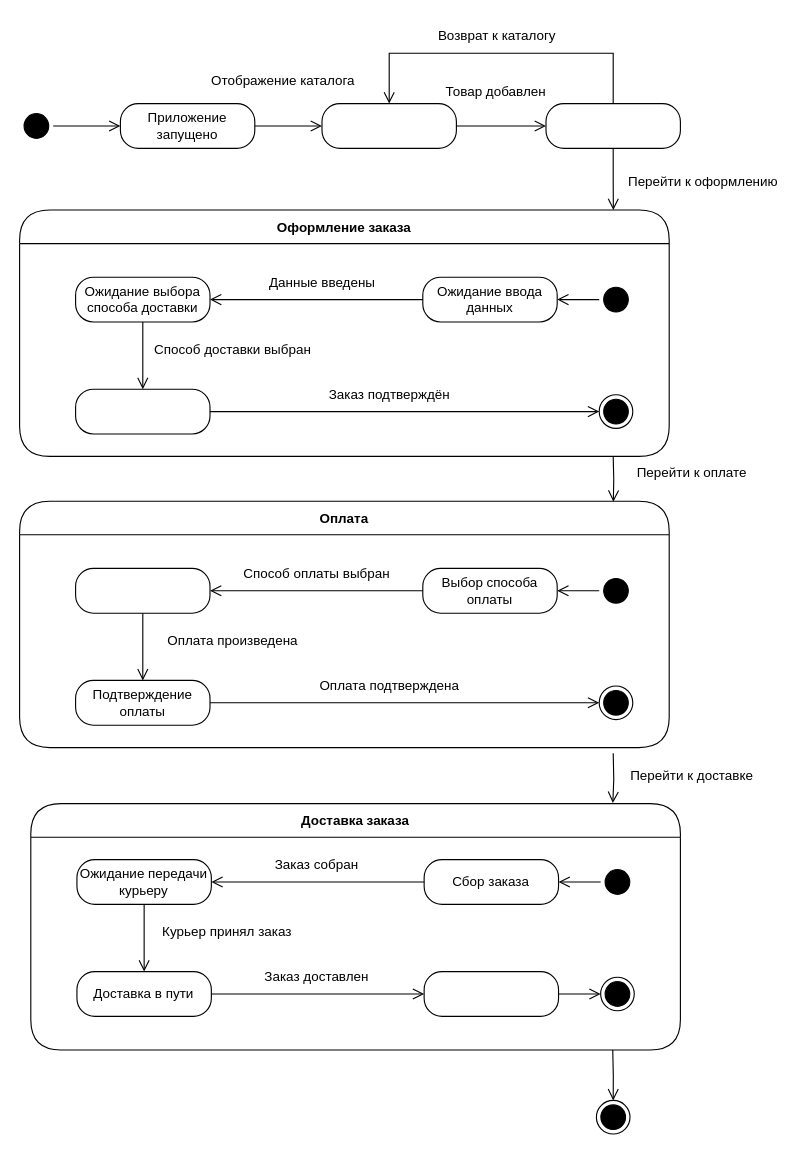
Image size: 812x1154. Some labels were removed from this diagram. The shapes that lost their labels are listed below. From the top down, each one's box as (x1, y1, x2, y2) in pixels, then its label:
(321, 102, 456, 148): Просмотр каталога
(545, 102, 680, 148): Добавление в корзину
(74, 388, 210, 434): Готов к подтверждению
(74, 567, 210, 613): Ожидание ввода данных оплаты
(423, 970, 559, 1016): Доставлено клиенту
